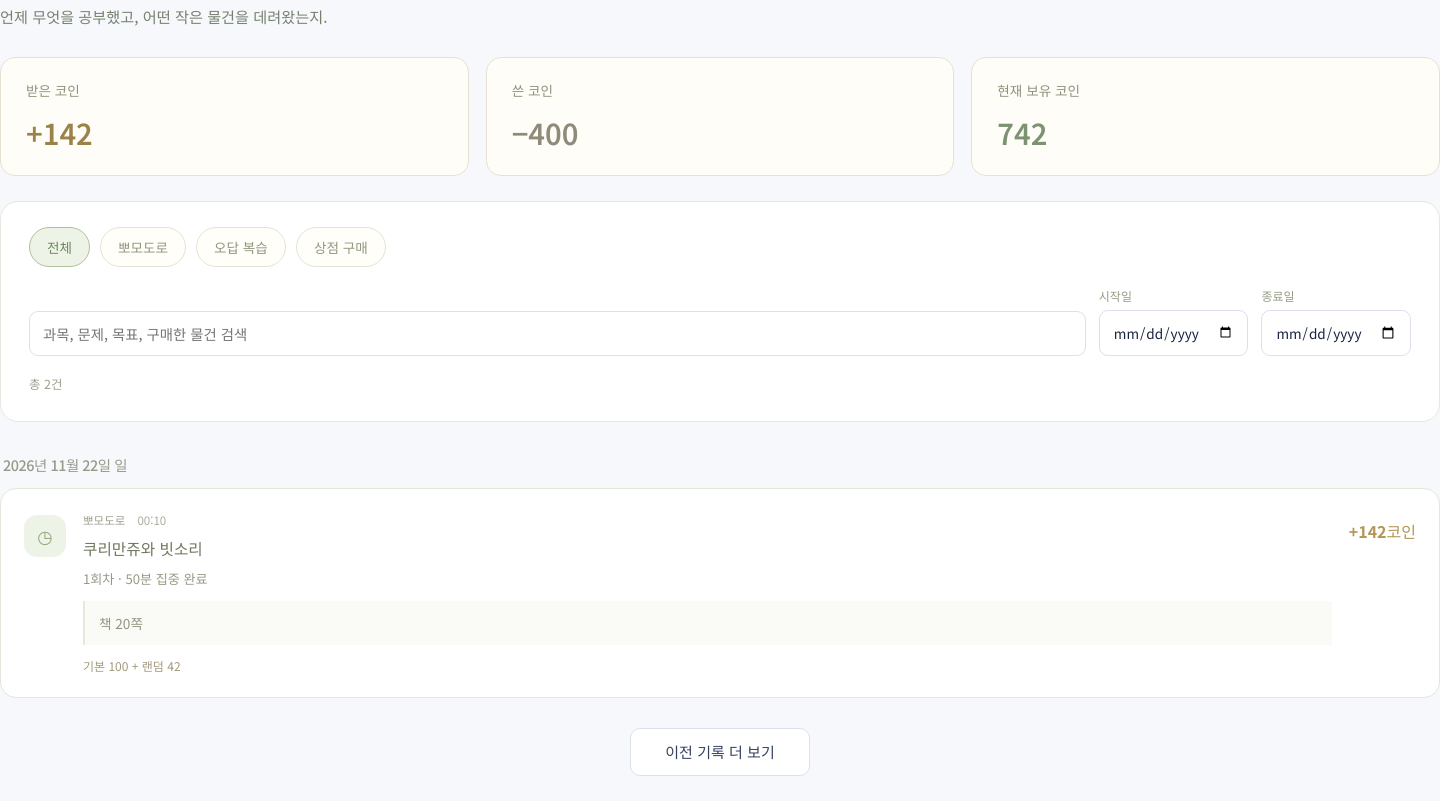
이전 기록을 불러올 때 마지막 기록의 시각과 ID를 커서로 전달한다
(page scrolled)
Click the button "이전 기록 더 보기" at x=720, y=752, box [630, 728, 810, 776]
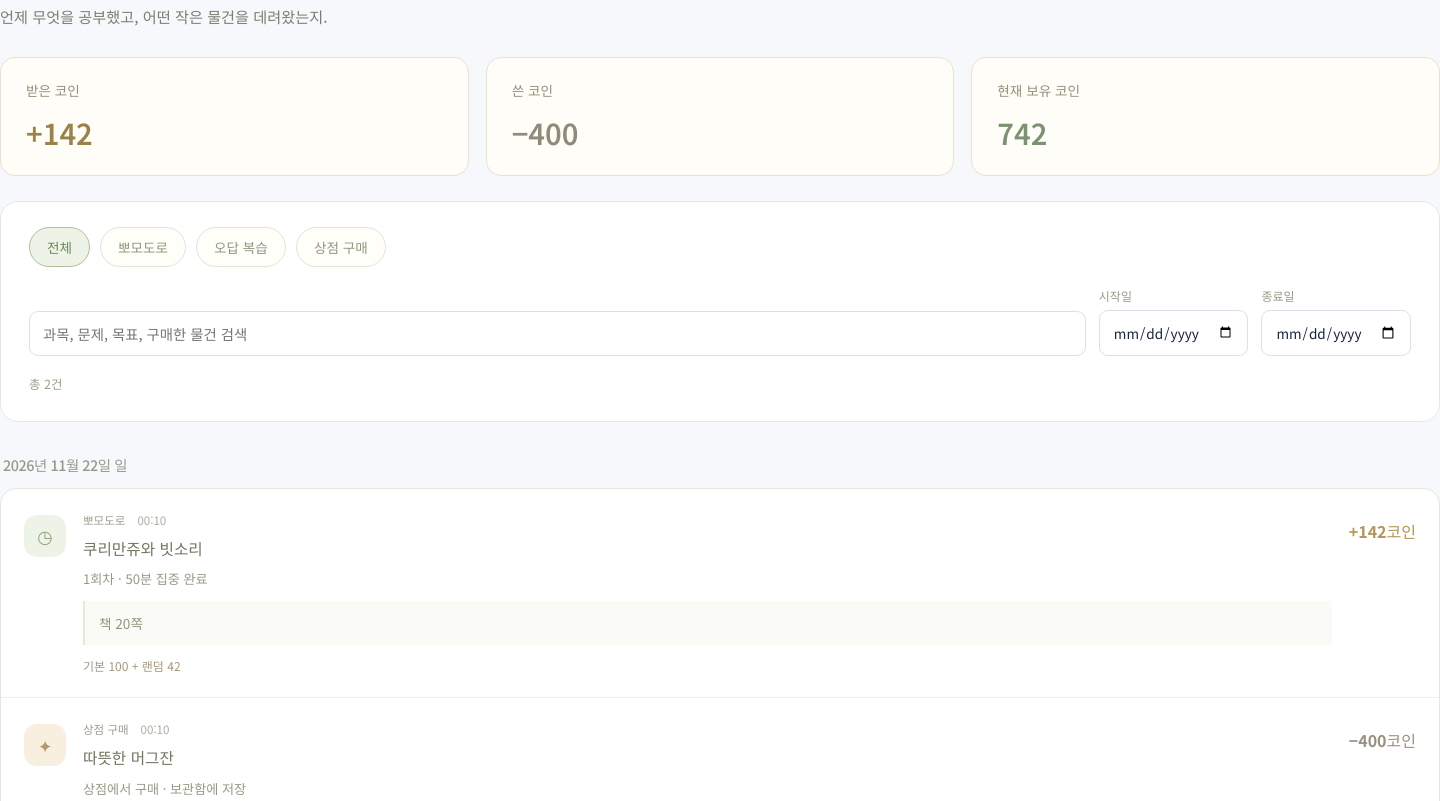
expect the text "+142코인" is shown: met, box [1349, 512, 1416, 543]
expect the heading "따뜻한 머그잔" is shown: met, box [83, 746, 174, 770]
